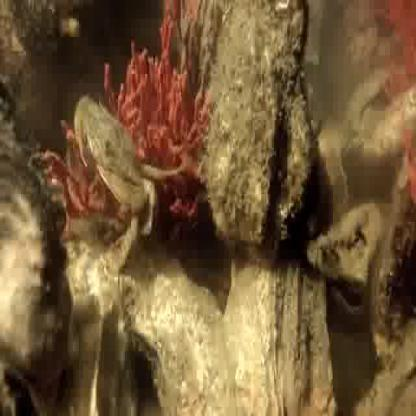3: (0, 358, 42, 416)
Oyster- Indeterminate: (211, 0, 317, 250)
Oyster-Closed: (0, 105, 72, 381), (0, 74, 18, 119)
